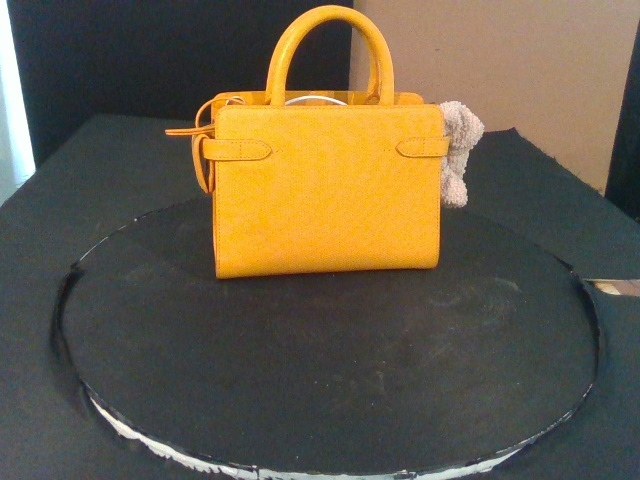bag: (211, 5, 441, 280)
